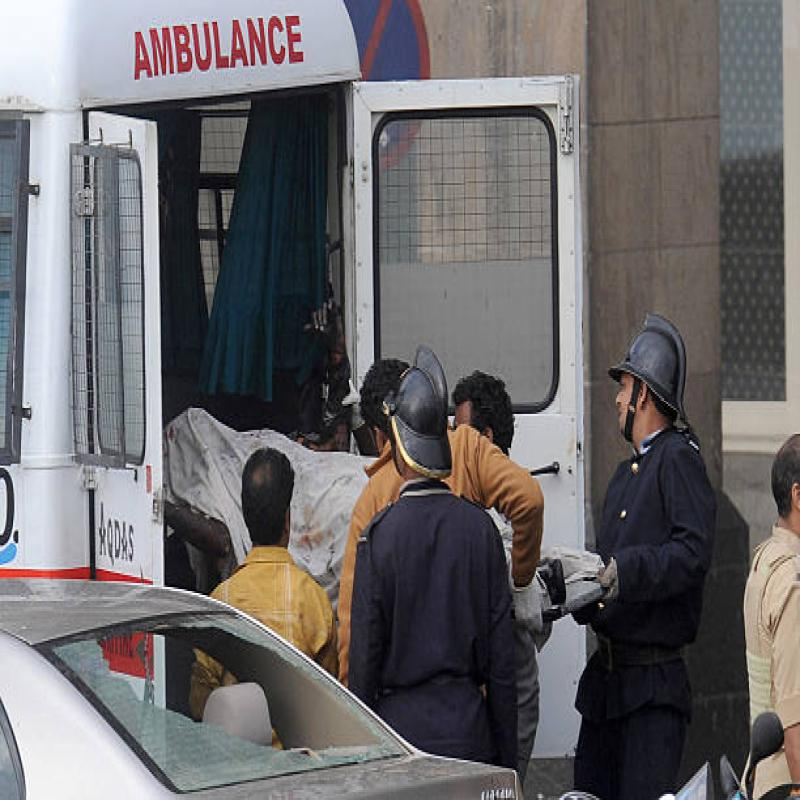ambulance: (3, 8, 616, 746)
